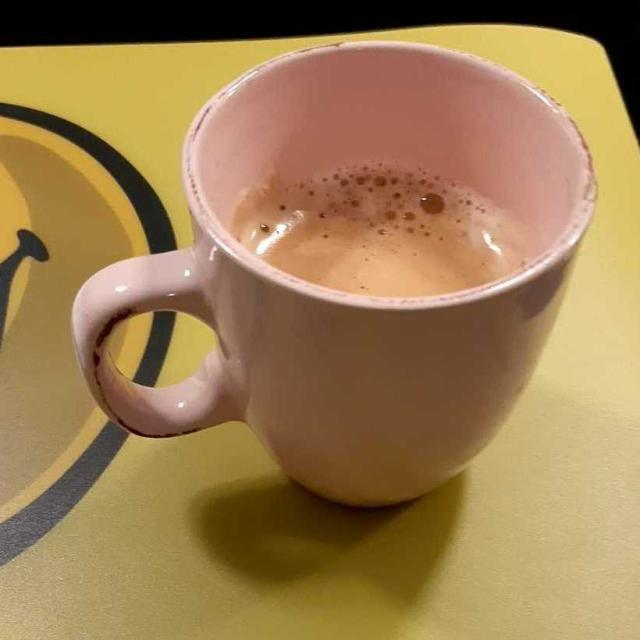coffee: (242, 157, 516, 302)
